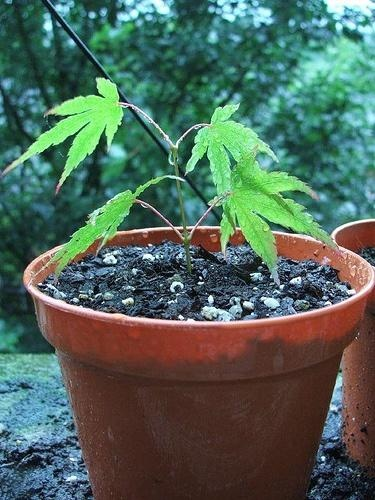pottedplant: (2, 76, 375, 500), (330, 217, 375, 474)
